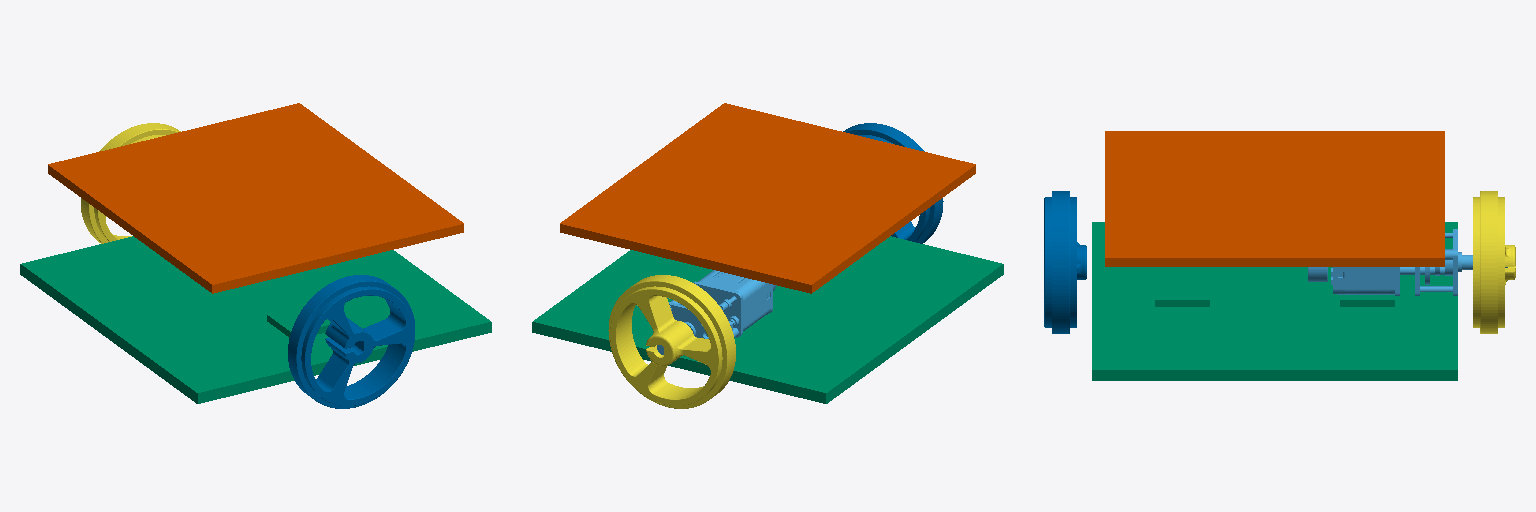
The robot description file, URDF, robot "swarm_robot_URDF-v4":
<robot name="swarm_robot_URDF-v4">
    <link name="ga12-n20-so310d-e-v1_1">
        <inertial>
            <origin xyz="-1.3592178036465619e-05 -0.0009373587287121677 0.006029434308014925" rpy="0.0 -8.979033897427474e-92 0.0" />
            <mass value="0.02021242715554708" />
            <inertia ixx="1.7251749096718982e-06" iyy="5.258151319348703e-07" izz="1.6218707990133452e-06" ixy="-5.095670370347291e-09" iyz="-1.9583263432512883e-07" ixz="7.149822415916891e-09" />
        </inertial>
        <visual name="ga12-n20-so310d-e-v1_1_visual">
            <origin xyz="-2.288483129109231e-09 -0.018000003345246655 0.005000000988025008" rpy="-2.5510775462822607e-15 -1.570796326794887 0" />
            <geometry>
                <mesh filename="package://swarm_bb_description/meshes/ga12-n20-so310d-e-v1_1.stl" scale="0.001 0.001 0.001" />
            </geometry>
        </visual>
        <collision name="ga12-n20-so310d-e-v1_1_collision">
            <origin xyz="0 -0.00775 0.00925855" rpy="0 0 0" />
            <geometry>
                <box size="0.012 0.0405 0.01851710" />
            </geometry>
        </collision>
    </link>
    <link name="ga12-n20-so310d-e-v1_2">
        <inertial>
            <origin xyz="1.3594293696042593e-05 0.0009373520382188261 0.006029434308014951" rpy="0.0 -8.979033897427474e-92 0.0" />
            <mass value="0.02021242715554708" />
            <inertia ixx="1.7251749096719525e-06" iyy="5.258151319348839e-07" izz="1.6218707990134061e-06" ixy="-5.095670370348138e-09" iyz="1.9583263432508479e-07" ixz="-7.149822415917315e-09" />
        </inertial>
        <visual name="ga12-n20-so310d-e-v1_2_visual">
            <origin xyz="4.404142689429236e-09 0.017999996654753322 0.005000000988025195" rpy="3.141592653589791 -1.570796326794894 0" />
            <geometry>
                <mesh filename="package://swarm_bb_description/meshes/ga12-n20-so310d-e-v1_2.stl" scale="0.001 0.001 0.001" />
            </geometry>
        </visual>
        <collision name="ga12-n20-so310d-e-v1_2_collision">
            <origin xyz="0 0.00775 0.00925855" rpy="0 0 0" />
            <geometry>
                <box size="0.012 0.0405 0.01851710" />
            </geometry>
        </collision>
    </link>
    <link name="base_link">
        <inertial>
            <origin xyz="0.0019025210578297591 -0.001 -0.00770144655489737" rpy="1.5707963267948966 0 0" />
            <mass value="0.10287425000000001" />
            <inertia ixx="4.5509879389818344e-05" iyy="8.641784693389976e-05" izz="4.103360336538436e-05" ixy="-1.0188257017580107e-22" iyz="1.577839437121839e-20" ixz="1.8371024700765687e-10" />
        </inertial>
        <visual name="base_link_visual">
            <origin xyz="0.0019025210578297591 -0.001 -0.00900180901197482" rpy="1.5707963267948966 0 0" />
            <geometry>
                <mesh filename="package://swarm_bb_description/meshes/base_link.stl" scale="0.001 0.001 0.001" />
            </geometry>
        </visual>
        <collision name="base_link_collision">
            <origin xyz="0.0019025210578297591 -0.001 -0.00900180901197482" rpy="1.5707963267948966 0 0" />
            <geometry>
                <mesh filename="package://swarm_bb_description/meshes/base_link.stl" scale="0.001 0.001 0.001" />
            </geometry>
        </collision>
    </link>
    <link name="Pololu-Wheel-32x7mm-v1_1__Pololu-Wheel-32x7mm-rim___-__________1">
        <inertial>
            <origin xyz="-2.8728333713018418e-05 0.0036048776263011505 7.675506719095892e-10" rpy="0.0 -0.0 0.0" />
            <mass value="0.01378815117462468" />
            <inertia ixx="8.79380760743047e-07" iyy="1.6618309203939595e-06" izz="8.785693073205128e-07" ixy="-3.341012244553176e-10" iyz="-1.1693636256380384e-12" ixz="6.070468080778837e-13" />
        </inertial>
        <visual name="Pololu-Wheel-32x7mm-v1_1__Pololu-Wheel-32x7mm-rim___-__________1_visual">
            <origin xyz="-0.029804957384581568 0.06100000334524669 -0.03206972540230936" rpy="-3.141592653589793 -3.944577515789815e-15 -5.798479893310872e-15" />
            <geometry>
                <mesh filename="package://swarm_bb_description/meshes/Pololu-Wheel-32x7mm-v1_1__Pololu-Wheel-32x7mm-rim___-__________1.stl" scale="0.001 0.001 0.001" />
            </geometry>
        </visual>
        <collision name="Pololu-Wheel-32x7mm-v1_1__Pololu-Wheel-32x7mm-rim___-__________1_collision">
            <origin xyz="0 0.00275 0" rpy="1.5707963267948966 0 0" />
            <geometry>
                <cylinder radius="0.0142" length="0.0085" />
            </geometry>
        </collision>
    </link>
    <link name="Pololu-Wheel-32x7mm-v1-1_1__Pololu-Wheel-32x7mm-rim___-_________-1_1">
        <inertial>
            <origin xyz="2.8731836674215915e-05 -0.0038951198602150327 -1.2508835922631078e-09" rpy="0.0 -0.0 0.0" />
            <mass value="0.013788151174624638" />
            <inertia ixx="8.793835275609633e-07" iyy="1.6618321494667147e-06" izz="8.785719831049779e-07" ixy="3.330043477431247e-10" iyz="-1.1932051484017658e-14" ixz="-5.802018140563768e-15" />
        </inertial>
        <visual name="Pololu-Wheel-32x7mm-v1-1_1__Pololu-Wheel-32x7mm-rim___-_________-1_1_visual">
            <origin xyz="-2.288483155754584e-09 -0.0004999966547533141 -9.880249240978855e-10" rpy="3.14159265358979 1.570796326794887 0" />
            <geometry>
                <mesh filename="package://swarm_bb_description/meshes/Pololu-Wheel-32x7mm-v1-1_1__Pololu-Wheel-32x7mm-rim___-_________-1_1.stl" scale="0.001 0.001 0.001" />
            </geometry>
        </visual>
        <collision name="Pololu-Wheel-32x7mm-v1-1_1__Pololu-Wheel-32x7mm-rim___-_________-1_1_collision">
            <origin xyz="0 -0.00475 0" rpy="1.5707963267948966 0 0" />
            <geometry>
                <cylinder radius="0.0142" length="0.0085" />
            </geometry>
        </collision>
    </link>
    <link name="upper_deck-v1_1">
        <inertial>
            <origin xyz="0.002493496751977873 0.05794695742758638 0.05105954582043595" rpy="1.5707963267948988 1.5707963267948672 0" />
            <mass value="0.06405600000000006" />
            <inertia ixx="1.9238151999999814e-05" iyy="2.4704264000001174e-05" izz="4.3899712000001134e-05" ixy="-1.4368232340969587e-19" iyz="2.4582430230280764e-20" ixz="-8.15205097470796e-19" />
        </inertial>
        <visual name="upper_deck-v1_1_visual">
            <origin xyz="0.0024934967519779187 0.0794469574275864 0.05105954582043595" rpy="1.5707963267948988 1.5707963267948672 0" />
            <geometry>
                <mesh filename="package://swarm_bb_description/meshes/upper_deck-v1_1.stl" scale="0.001 0.001 0.001" />
            </geometry>
        </visual>
        <collision name="upper_deck-v1_1_collision">
            <origin xyz="0.0024934967519779187 0.0794469574275864 0.05105954582043595" rpy="1.5707963267948988 1.5707963267948672 0" />
            <geometry>
                <mesh filename="package://swarm_bb_description/meshes/upper_deck-v1_1.stl" scale="0.001 0.001 0.001" />
            </geometry>
        </collision>
    </link>
    <joint name="Rígida-10" type="fixed">
        <origin xyz="0.000003829 0.0175 -0.005" rpy="0 0 0" />
        <parent link="base_link" />
        <child link="ga12-n20-so310d-e-v1_2" />
    </joint>
    <joint name="Rígida-11" type="fixed">
        <origin xyz="-0.000003831 -0.0195 -0.005" rpy="0 0 0" />
        <parent link="base_link" />
        <child link="ga12-n20-so310d-e-v1_1" />
    </joint>
    <joint name="Revolución-12" type="continuous">
        <origin xyz="0.0 -0.027999999999999997 0.0050000000000000044" rpy="-3.141592653589793 -5.771500468186914e-31 -2.0640974287023965e-31" />
        <parent link="ga12-n20-so310d-e-v1_1" />
        <child link="Pololu-Wheel-32x7mm-v1-1_1__Pololu-Wheel-32x7mm-rim___-_________-1_1" />
        <axis xyz="0 -1 0" />
    </joint>
    <joint name="Revolución-13" type="continuous">
        <origin xyz="0.0 0.027999999999999997 0.0050000000000000044" rpy="3.141592653589793 -5.771500468186914e-31 -8.668192073666245e-32" />
        <parent link="ga12-n20-so310d-e-v1_2" />
        <child link="Pololu-Wheel-32x7mm-v1_1__Pololu-Wheel-32x7mm-rim___-__________1" />
        <axis xyz="0 -1 0" />
    </joint>
    <joint name="upper_deck_fixed_joint" type="fixed">
        <parent link="base_link" />
        <child link="upper_deck-v1_1" />
        <origin xyz="-0.000591 0.05006 -0.043" rpy="1.5707963267948966 0 0" />
    </joint>
    <gazebo reference="Pololu-Wheel-32x7mm-v1_1__Pololu-Wheel-32x7mm-rim___-__________1">
        <!--Coeficientes iniciales de friccion para pruebas; no medidos.-->
        <mu1>1.0</mu1>
        <mu2>1.0</mu2>
    </gazebo>
    <gazebo reference="Pololu-Wheel-32x7mm-v1-1_1__Pololu-Wheel-32x7mm-rim___-_________-1_1">
        <!--Coeficientes iniciales de friccion para pruebas; no medidos.-->
        <mu1>1.0</mu1>
        <mu2>1.0</mu2>
    </gazebo>
    <!-- Control diferencial de un solo robot en Gazebo Classic / ROS 2. -->
    <gazebo>
        <plugin name="swarm_bb_diff_drive" filename="libgazebo_ros_diff_drive.so">
            <ros>
                <namespace>/swarm_bb_01</namespace>
            </ros>
            <update_rate>50</update_rate>
            <num_wheel_pairs>1</num_wheel_pairs>
            <left_joint>Revolución-13</left_joint>
            <right_joint>Revolución-12</right_joint>
            <!-- Dimensiones de las colisiones actuales, sin neumaticos adicionales. -->
            <wheel_separation>0.0855</wheel_separation>
            <wheel_diameter>0.0284</wheel_diameter>
            <!-- Valores iniciales de prueba; no son mediciones de los motores reales. -->
            <max_wheel_torque>0.02</max_wheel_torque>
            <max_wheel_acceleration>0.1</max_wheel_acceleration>
            <!-- 1: pose y velocidad del mundo simulado; 0: odometria por ruedas. -->
            <odometry_source>1</odometry_source>
            <publish_odom>true</publish_odom>
            <odometry_frame>odom</odometry_frame>
            <robot_base_frame>base_link</robot_base_frame>
            <!-- Primera prueba en Gazebo: evita duplicar TF del lanzamiento de RViz. -->
            <publish_odom_tf>false</publish_odom_tf>
            <publish_wheel_tf>false</publish_wheel_tf>
        </plugin>
    </gazebo>
</robot>

--- Render facts (derived) ---
3 views of the same robot in one strip: view 1: azimuth 30°, elevation 25°; view 2: azimuth 150°, elevation 25°; view 3: azimuth 270°, elevation 25° (orthographic).
Robot: swarm_robot_URDF-v4 — 6 links, 5 joints (2 continuous, 3 fixed); root link base_link; default pose: every joint at zero.
Links seen in each view (by area): view 1: upper_deck-v1_1, base_link, Pololu-Wheel-32x7mm-v1-1_1__Pololu-Wheel-32x7mm-rim___-_________, Pololu-Wheel-32x7mm-v1_1__Pololu-Wheel-32x7mm-rim___-__________1; view 2: upper_deck-v1_1, base_link, Pololu-Wheel-32x7mm-v1_1__Pololu-Wheel-32x7mm-rim___-__________1, ga12-n20-so310d-e-v1_2, Pololu-Wheel-32x7mm-v1-1_1__Pololu-Wheel-32x7mm-rim___-_________; view 3: upper_deck-v1_1, base_link, Pololu-Wheel-32x7mm-v1-1_1__Pololu-Wheel-32x7mm-rim___-_________, Pololu-Wheel-32x7mm-v1_1__Pololu-Wheel-32x7mm-rim___-__________1, ga12-n20-so310d-e-v1_2.
Link boxes in pixels (bbox=[...]): upper_deck-v1_1: bbox=[48, 103, 463, 293]; base_link: bbox=[20, 236, 491, 403]; Pololu-Wheel-32x7mm-v1-1_1__Pololu-Wheel-32x7mm-rim___-_________: bbox=[288, 275, 414, 408]; Pololu-Wheel-32x7mm-v1_1__Pololu-Wheel-32x7mm-rim___-__________1: bbox=[81, 123, 180, 243]; upper_deck-v1_1: bbox=[560, 103, 975, 293]; base_link: bbox=[532, 236, 1003, 403]; Pololu-Wheel-32x7mm-v1_1__Pololu-Wheel-32x7mm-rim___-__________1: bbox=[608, 275, 735, 408]; ga12-n20-so310d-e-v1_2: bbox=[657, 270, 775, 354]; Pololu-Wheel-32x7mm-v1-1_1__Pololu-Wheel-32x7mm-rim___-_________: bbox=[843, 123, 943, 243]; upper_deck-v1_1: bbox=[1105, 131, 1444, 266]; base_link: bbox=[1092, 222, 1457, 380]; Pololu-Wheel-32x7mm-v1-1_1__Pololu-Wheel-32x7mm-rim___-_________: bbox=[1044, 191, 1086, 333]; Pololu-Wheel-32x7mm-v1_1__Pololu-Wheel-32x7mm-rim___-__________1: bbox=[1473, 191, 1515, 333]; ga12-n20-so310d-e-v1_2: bbox=[1308, 229, 1507, 295].
Bounding box of the posed robot: 0.07 × 0.094 × 0.0301 m (x, y, z).
Meshes: 6 distinct files referenced, 5 mesh visuals loaded (5 binary STL); not drawn: 1 (reference not matched to a file when rendering).
